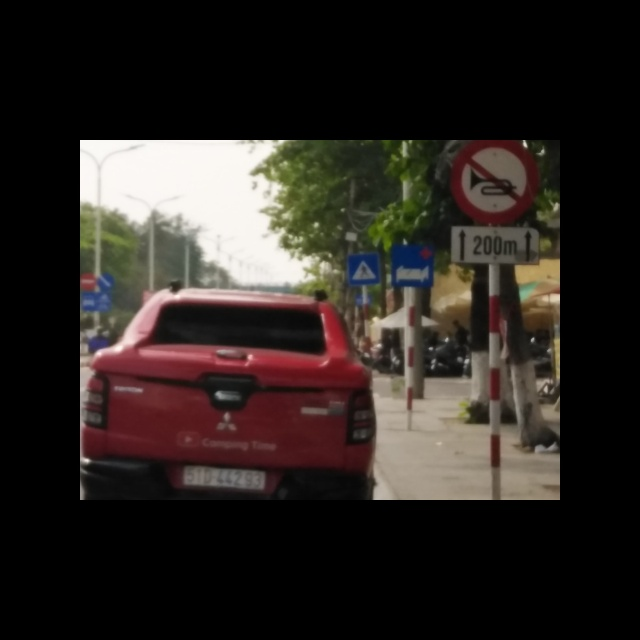Bệnh viện: (390, 244, 431, 290)
Cấm bấm còi: (452, 140, 539, 226)
Đường dành cho người đi bộ: (344, 251, 382, 283)
